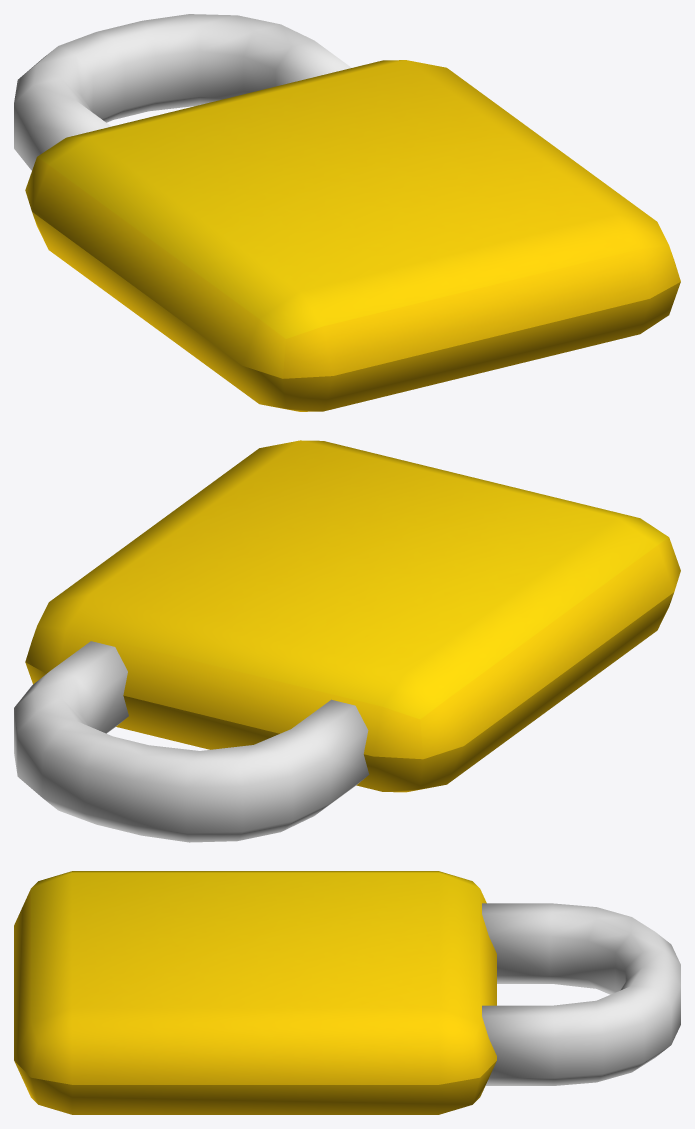
Rendered from lock.fbx.
The picture shows the model from 3 angles, top to bottom: view 1: azimuth 30°, elevation 25°; view 2: azimuth 150°, elevation 25°; view 3: azimuth 270°, elevation 25°; orthographic projection. The views are drawn at different scales.
Parts seen in each view (by area): view 1: lock, shackle; view 2: lock, shackle; view 3: lock, shackle.
Boxes of the visible parts, <box> form: lock: <box>25,60,680,411</box>; shackle: <box>14,14,351,170</box>; lock: <box>25,440,680,792</box>; shackle: <box>14,641,369,842</box>; lock: <box>14,871,496,1114</box>; shackle: <box>482,903,680,1085</box>.
Bounding box in the file's own units: 45 × 12 × 69.03.
